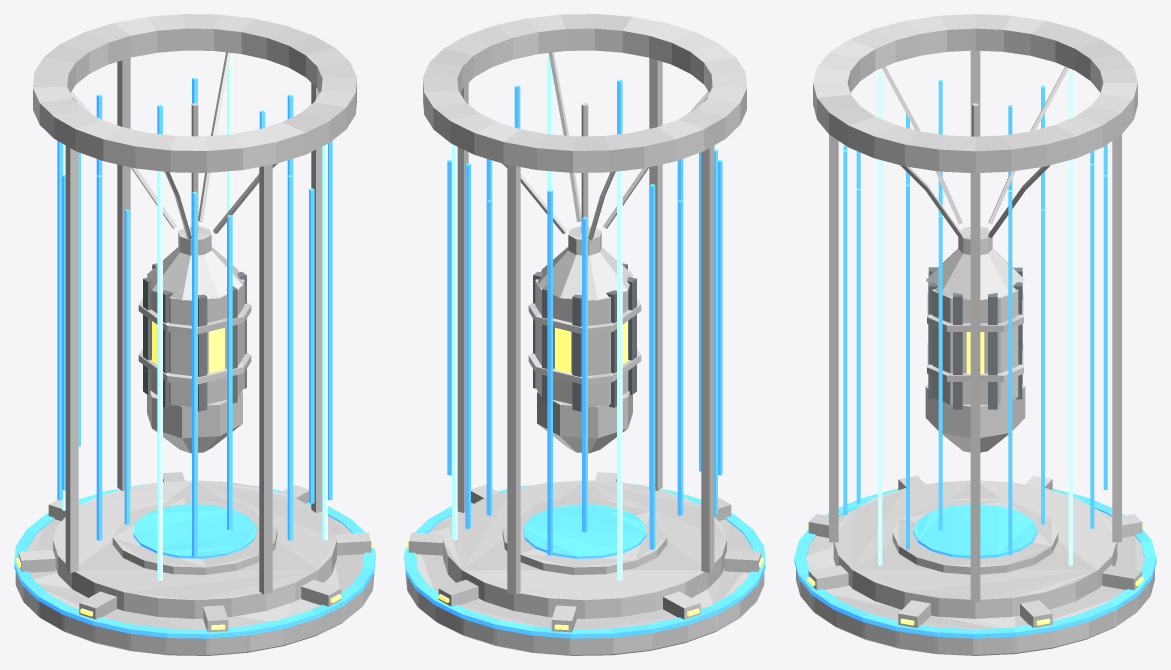
Rendered from Containment_Tube_Large.fbx.
3 views of the same model, side by side, from view 1: azimuth 30°, elevation 25°; view 2: azimuth 150°, elevation 25°; view 3: azimuth 270°, elevation 25° (orthographic).
Parts seen in each view (by area): view 1: Containment_Tube_Large; view 2: Containment_Tube_Large; view 3: Containment_Tube_Large.
Boxes of the visible parts, box(x1,y1,x2,y2) form: Containment_Tube_Large: box(14, 14, 375, 655); Containment_Tube_Large: box(404, 14, 765, 655); Containment_Tube_Large: box(794, 14, 1156, 655).
Bounding box in the file's own units: 5.24 × 7.95 × 5.24.
